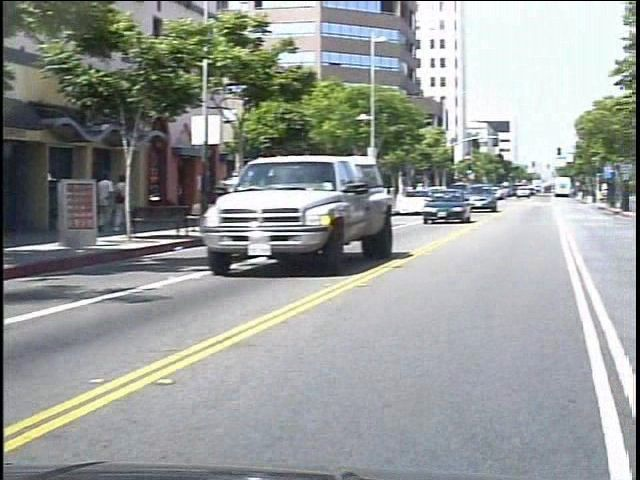person: (110, 170, 126, 233), (123, 173, 137, 237)
